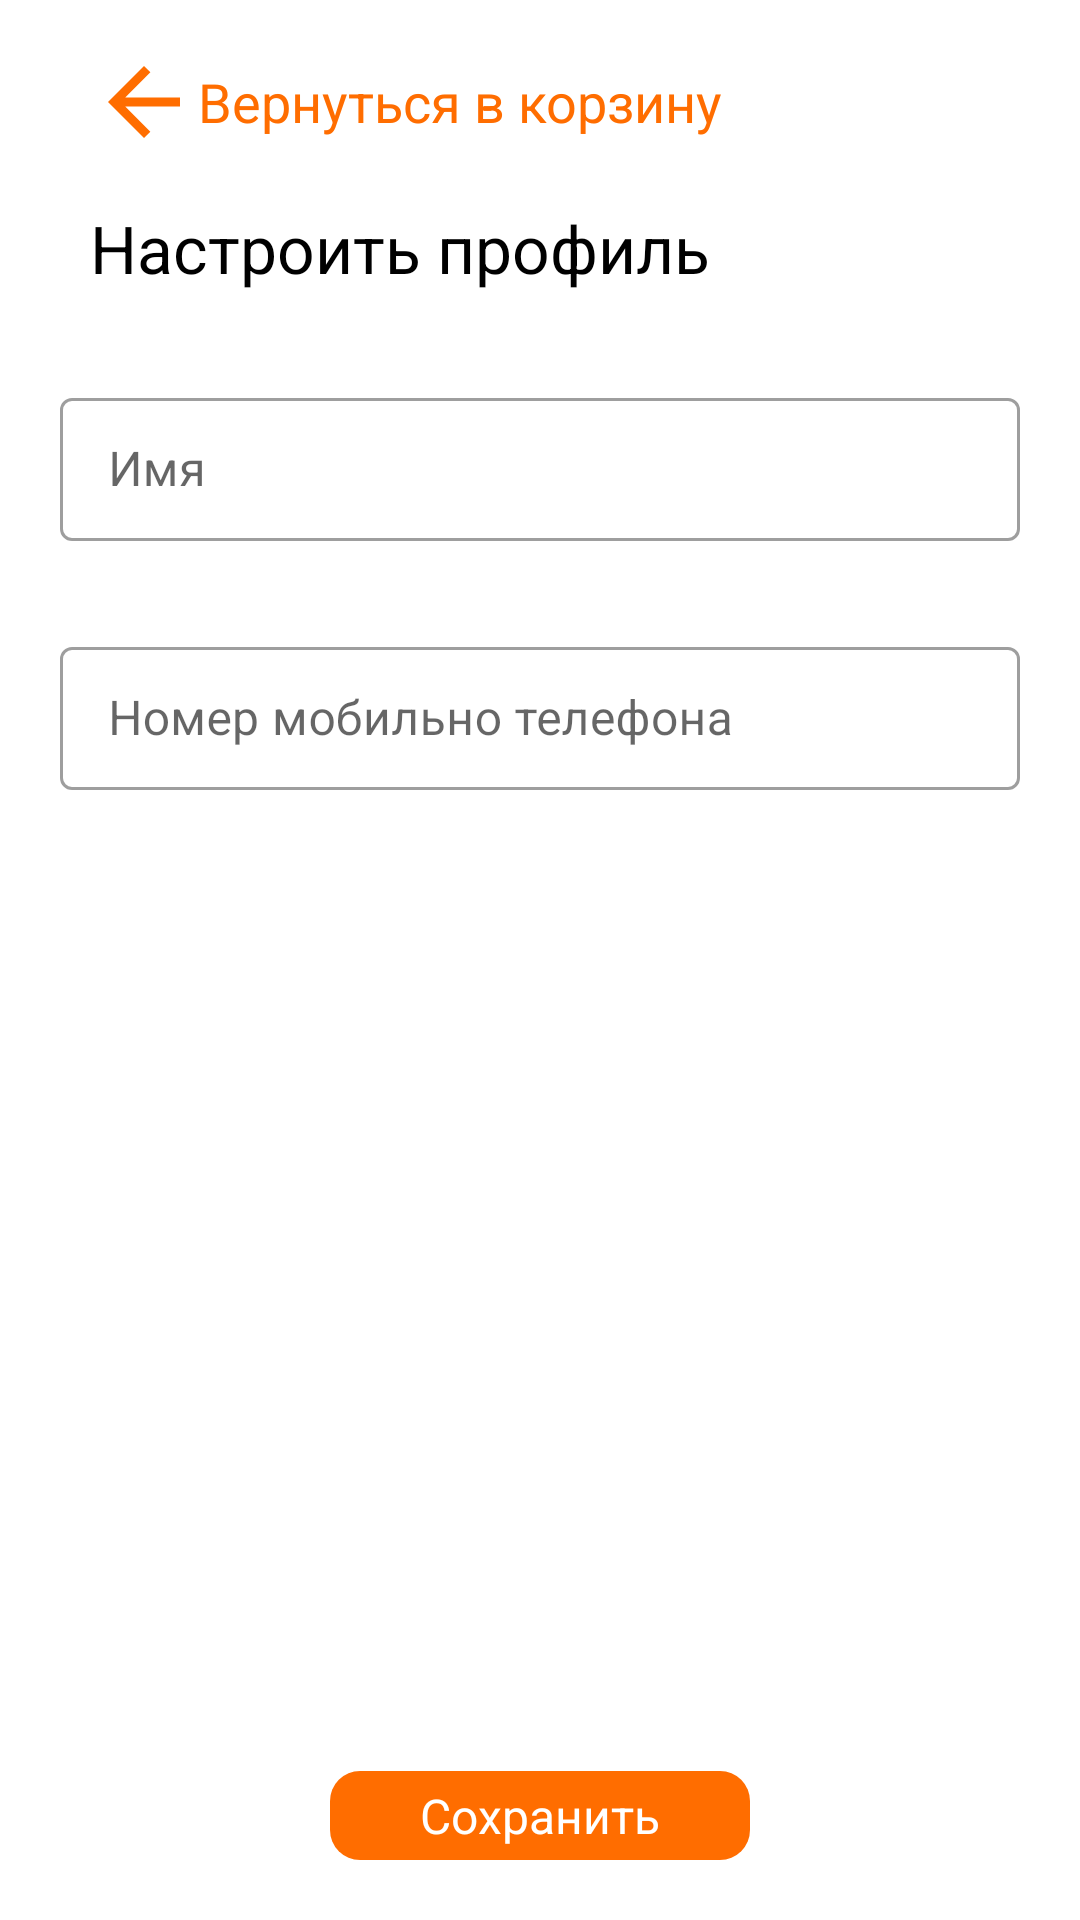

Icons on this 1080×1920 Android screen, each with its box as (x1, y1, x2, y2):
arrow back: (108, 66, 180, 138)
